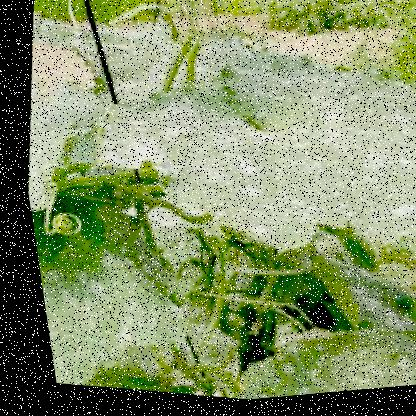PowderyMildew: (109, 67, 415, 273)
